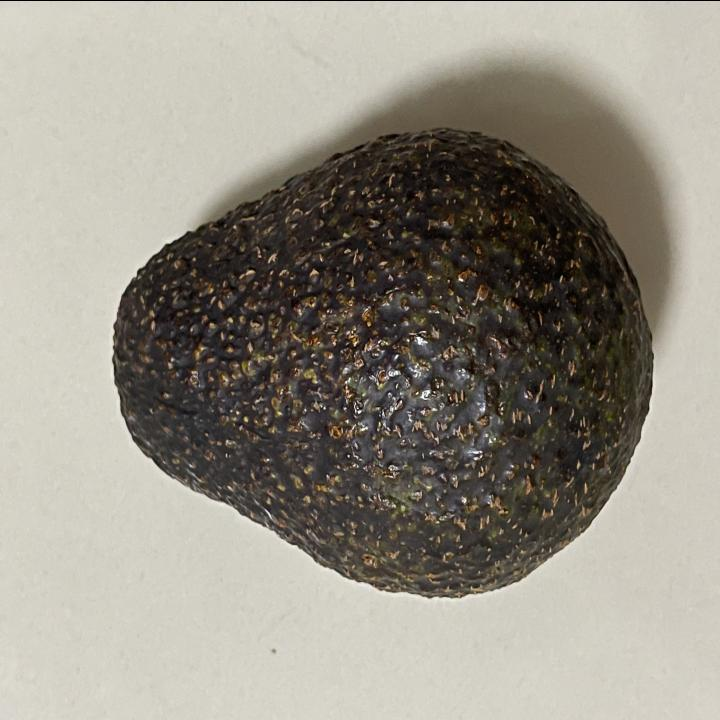Level2: (107, 116, 661, 602)
